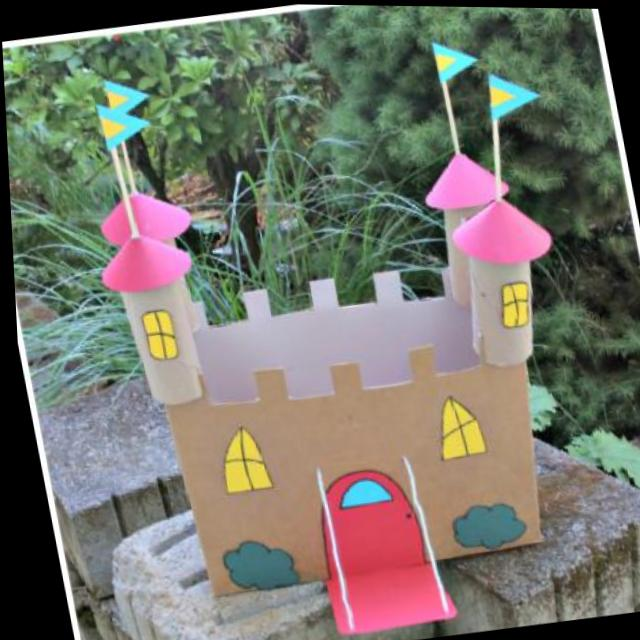box: (68, 108, 640, 640)
